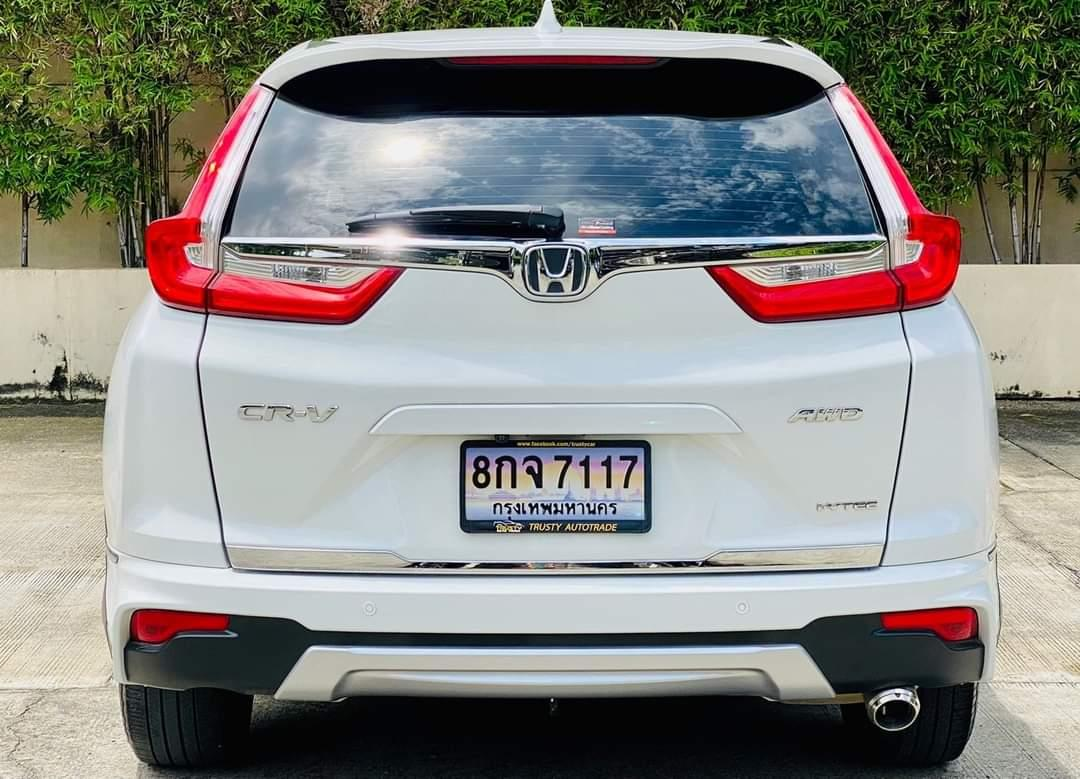license-plate: (459, 437, 656, 537)
